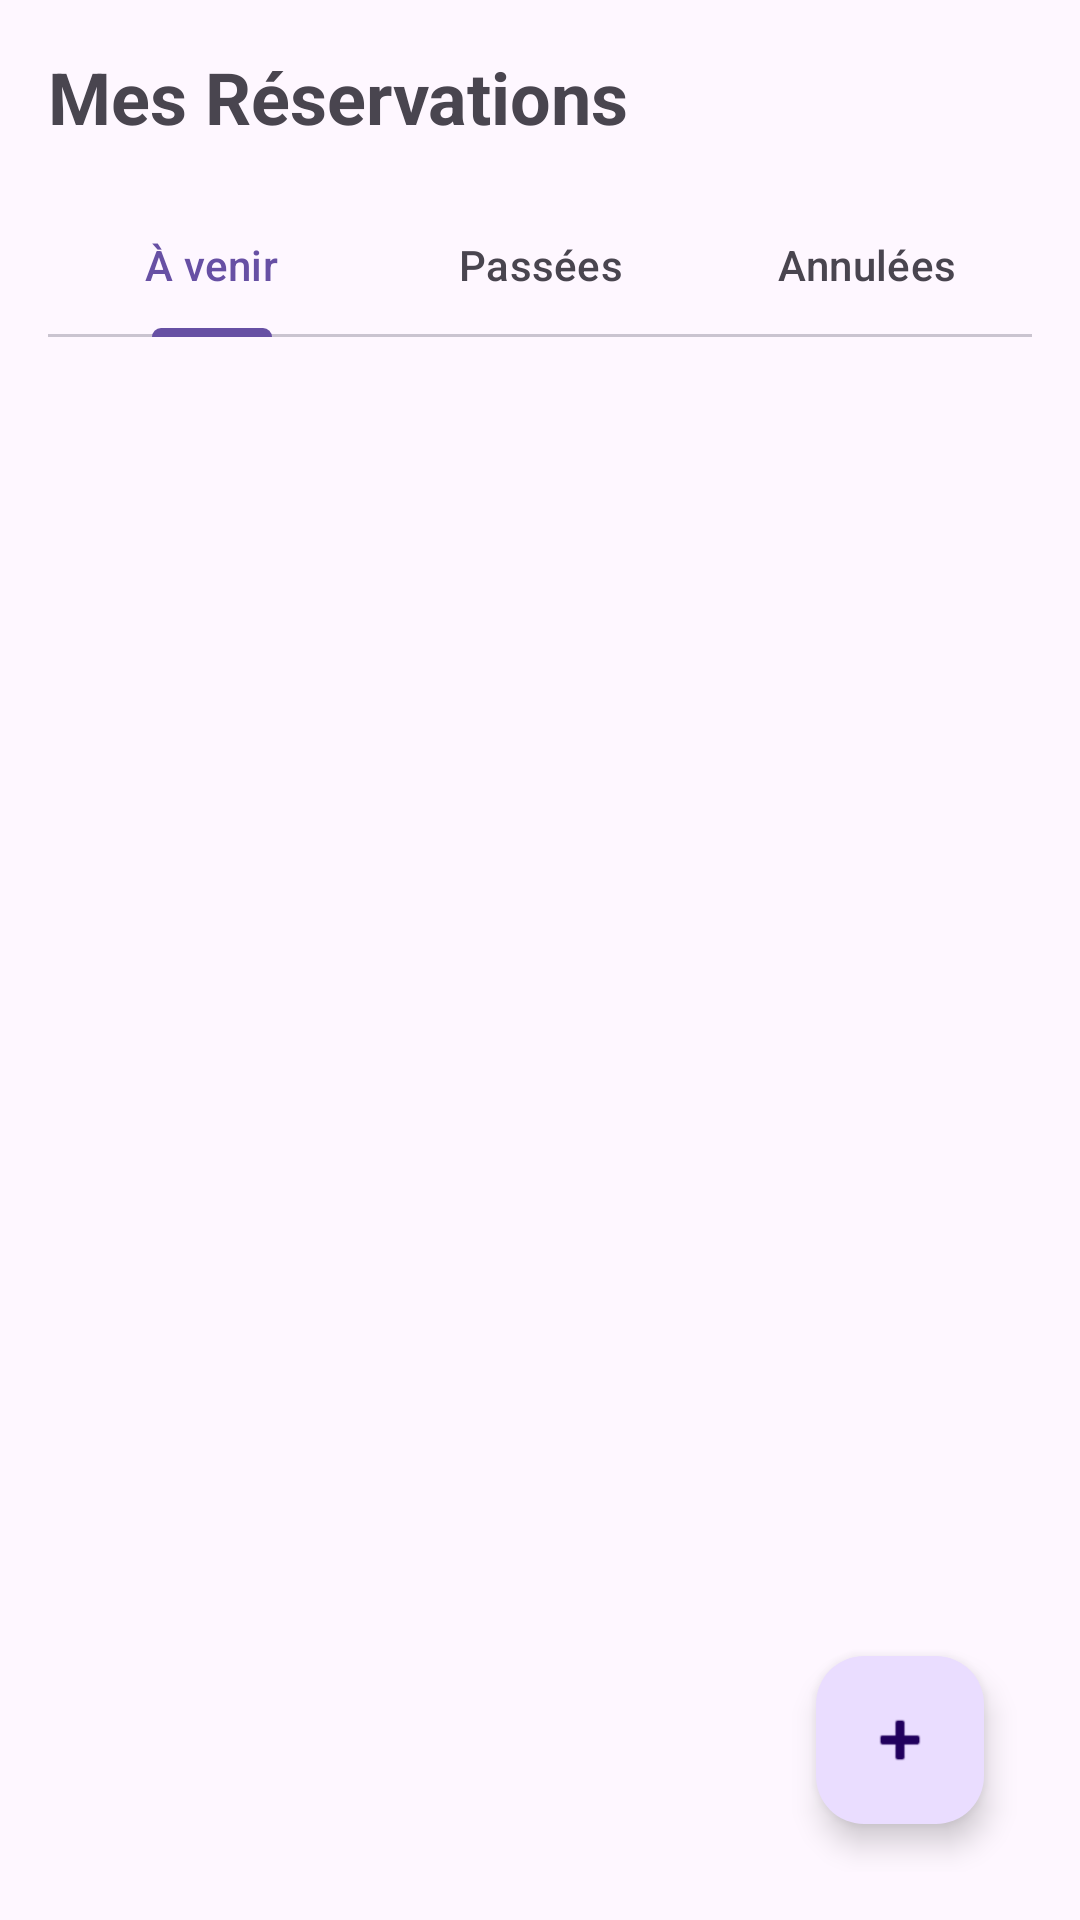

Icon bounding boxes for this 1080x1920 phone screenshot, format (x1, y1, x2, y2):
Nouvelle réservation: (816, 1656, 984, 1824)
